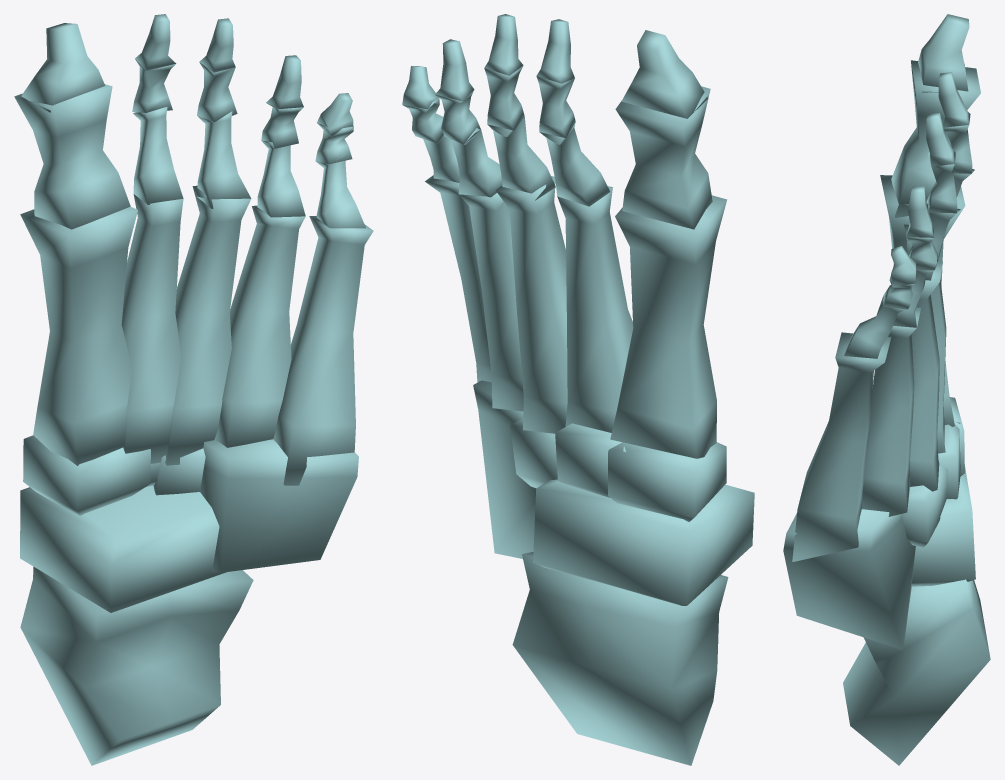
Rendered from Skelly_foot.L.fbx.
The picture shows the model from 3 angles, left to right: view 1: azimuth 30°, elevation 25°; view 2: azimuth 150°, elevation 25°; view 3: azimuth 270°, elevation 25°; orthographic projection. The views are drawn at different scales.
Parts seen in each view (by area): view 1: Skelly_foot.L; view 2: Skelly_foot.L; view 3: Skelly_foot.L.
Boxes of the visible parts, x1=… form: Skelly_foot.L: x1=14, y1=14, x2=373, y2=765; Skelly_foot.L: x1=402, y1=14, x2=754, y2=765; Skelly_foot.L: x1=783, y1=14, x2=990, y2=765.
Bounding box in the file's own units: 9.95 × 22.73 × 6.03.
